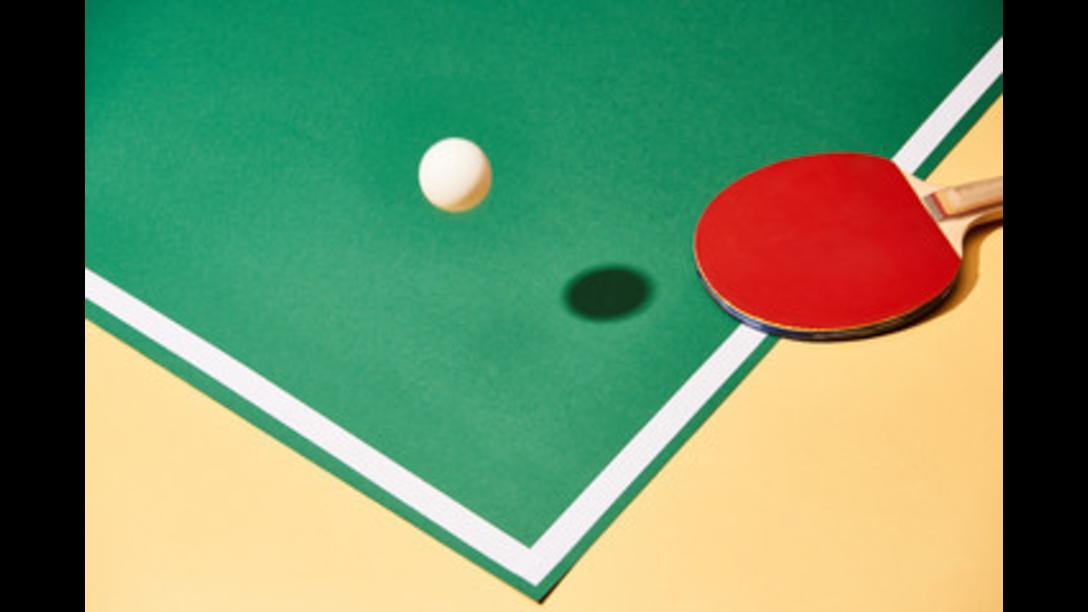Table-Tennis-Ball: (420, 138, 490, 210)
